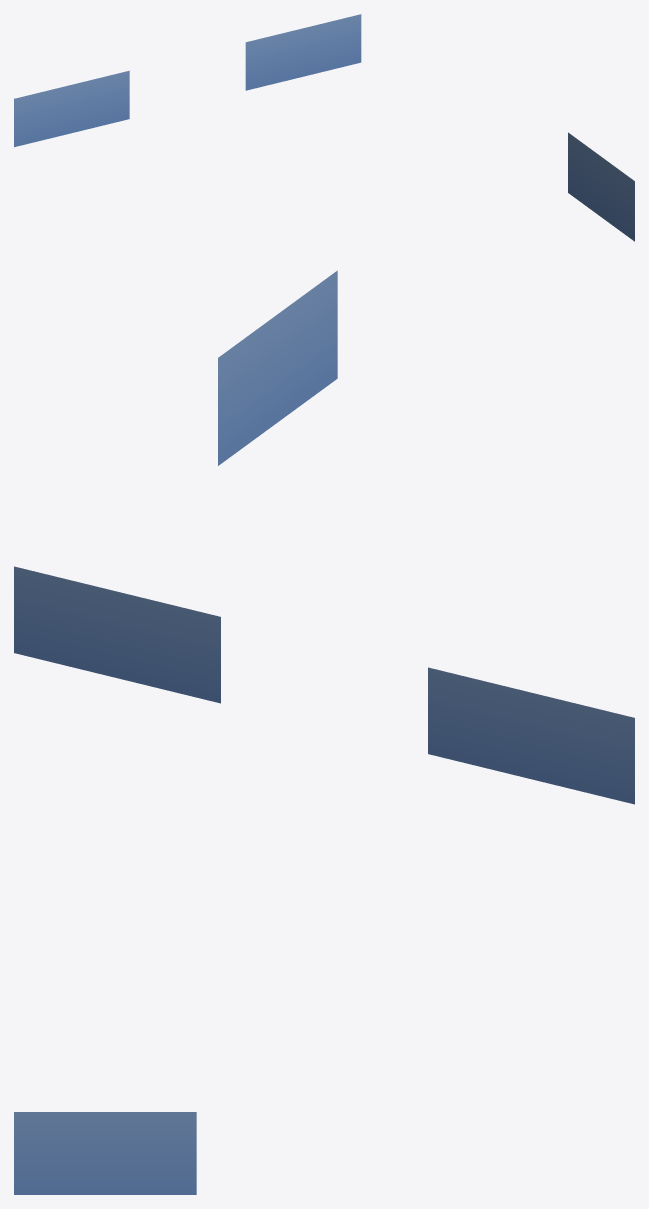
Rendered from 049_2_1_building-n_1.glb.
The picture shows the model from 3 angles, top to bottom: view 1: azimuth 30°, elevation 25°; view 2: azimuth 150°, elevation 25°; view 3: azimuth 270°, elevation 25°; orthographic projection. The views are drawn at different scales.
Parts seen in each view (by area): view 1: 2_1_building-n_1; view 2: 2_1_building-n_1; view 3: 2_1_building-n_1.
Boxes of the visible parts, box(x1,y1,x2,y2) form: 2_1_building-n_1: box(14, 14, 634, 241); 2_1_building-n_1: box(14, 270, 634, 804); 2_1_building-n_1: box(14, 1112, 196, 1194).
Size of the model in its own units: 0.68 by 0.12 by 0.68.
1 material, 1 textured.
